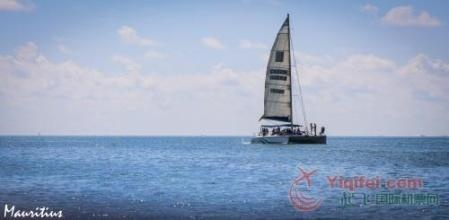fanchuan: (246, 7, 333, 148)
